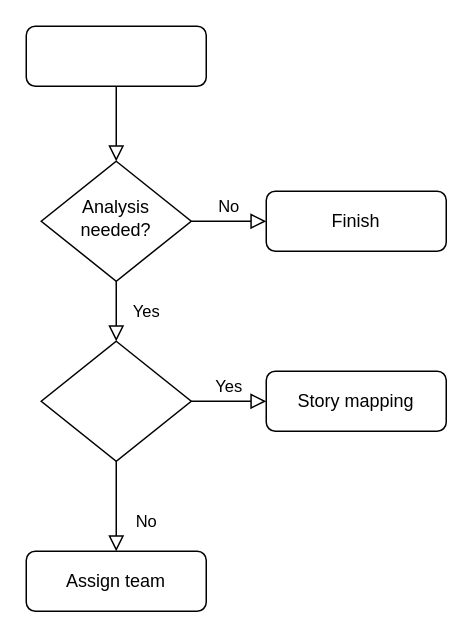
Image size: 473x638. Some labels were removed from this diagram. The centre of each missing label's shape, as x and y in pixels:
Analysis: (115,55)
Is team assigned?: (115,400)
